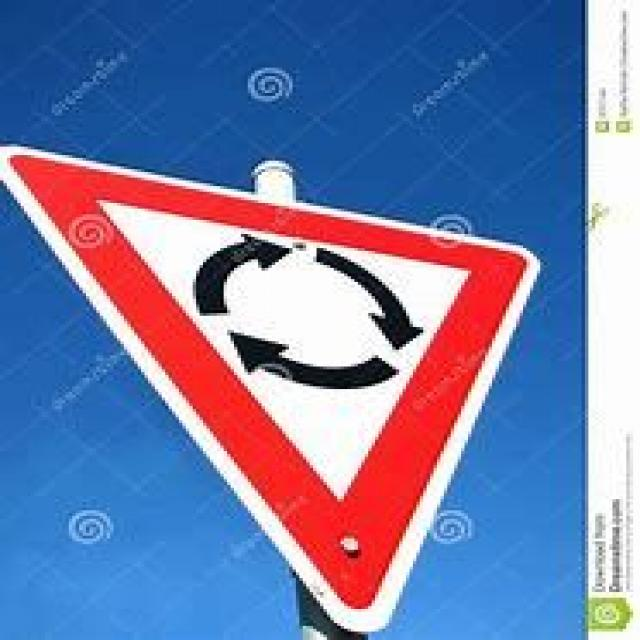ROUNDABOUT: (0, 138, 540, 634), (0, 144, 537, 632)
